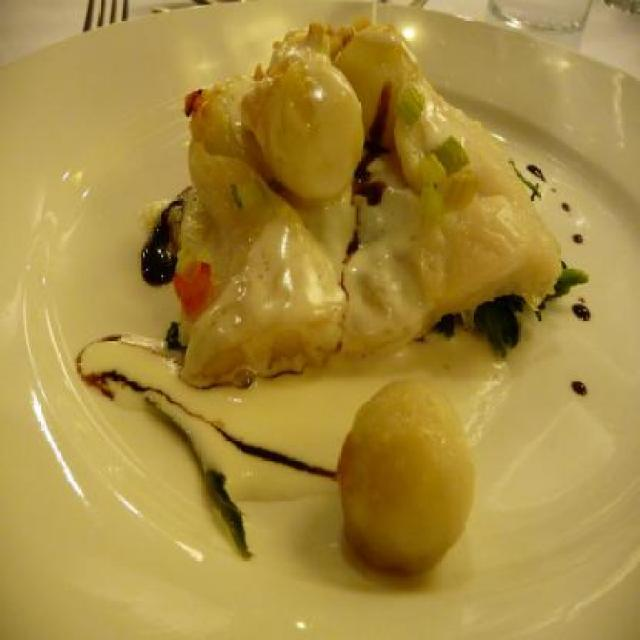Ice cream: (88, 1, 570, 554)
